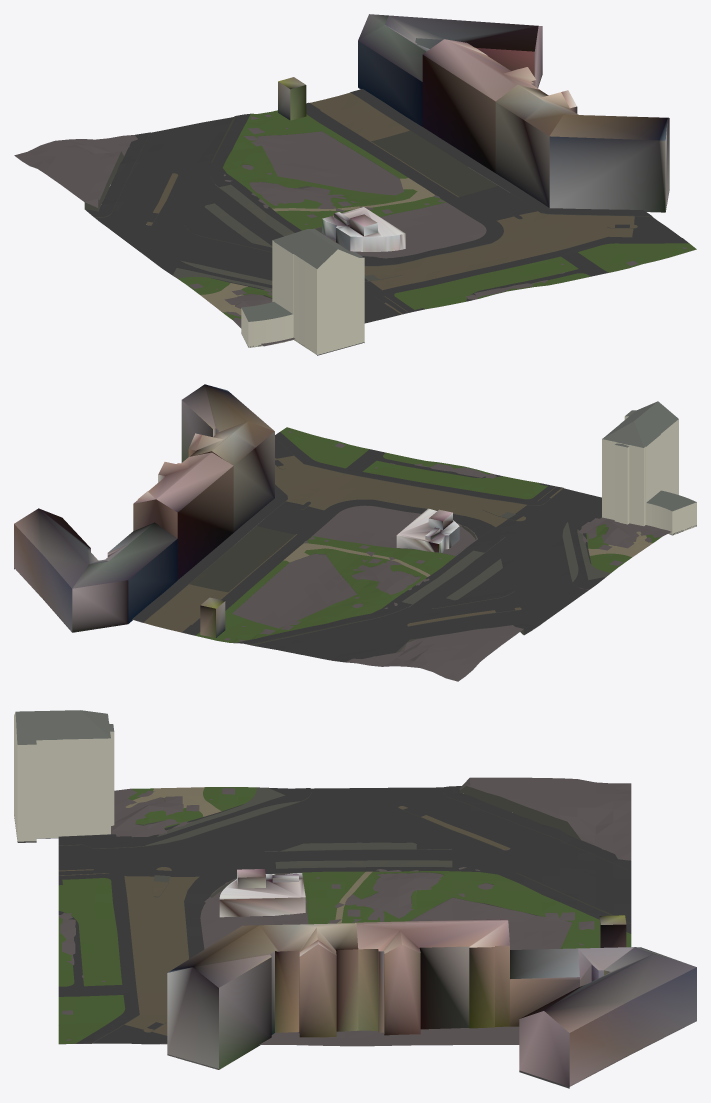
3 renders of one model, top to bottom at view 1: azimuth 30°, elevation 25°; view 2: azimuth 150°, elevation 25°; view 3: azimuth 270°, elevation 25°, orthographic. The views are drawn at different scales.
Parts seen in each view (by area): view 1: c_m02_m18; view 2: c_m02_m18; view 3: c_m02_m18.
Boxes of the visible parts, <box> form: c_m02_m18: <box>14,14,696,355</box>; c_m02_m18: <box>14,384,696,681</box>; c_m02_m18: <box>14,710,696,1088</box>.
Bounding box in the file's own units: 151 × 31.51 × 153.
